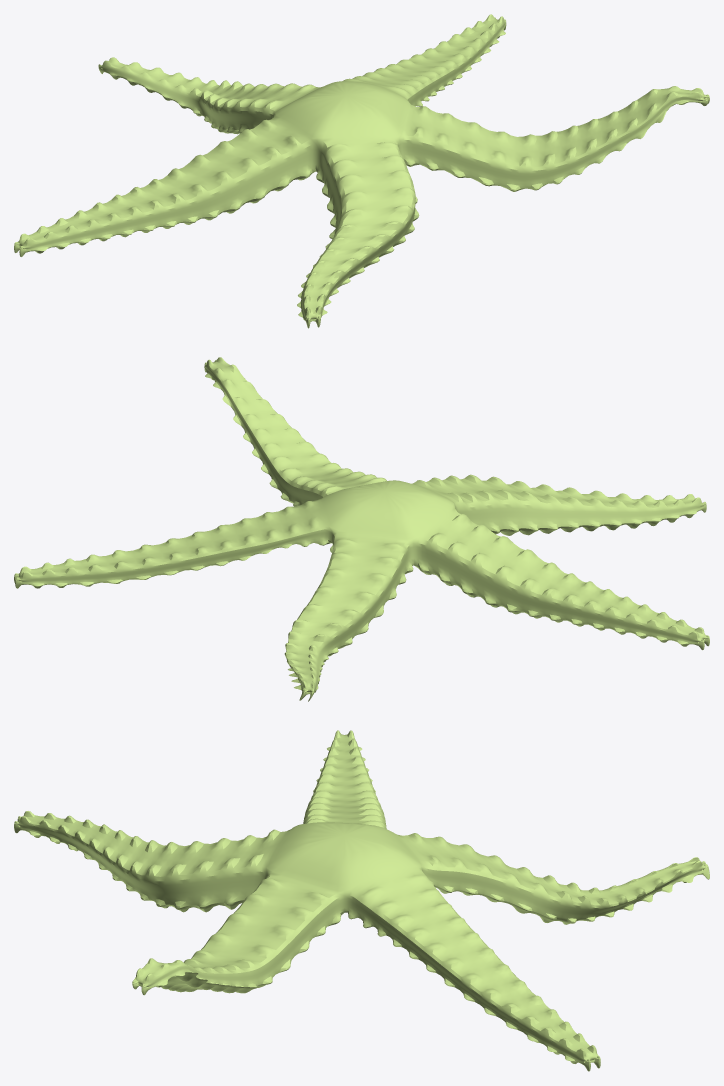
File: starfish.fbx
3 renders of one model, top to bottom at view 1: azimuth 30°, elevation 25°; view 2: azimuth 150°, elevation 25°; view 3: azimuth 270°, elevation 25°, orthographic. The views are drawn at different scales.
Parts seen in each view (by area): view 1: starfish; view 2: starfish; view 3: starfish.
Part boxes in pixels (x1=…): starfish: x1=14, y1=14, x2=709, y2=328; starfish: x1=14, y1=357, x2=709, y2=701; starfish: x1=14, y1=730, x2=709, y2=1071.
Bounding box in the file's own units: 1161 × 180 × 1034.
